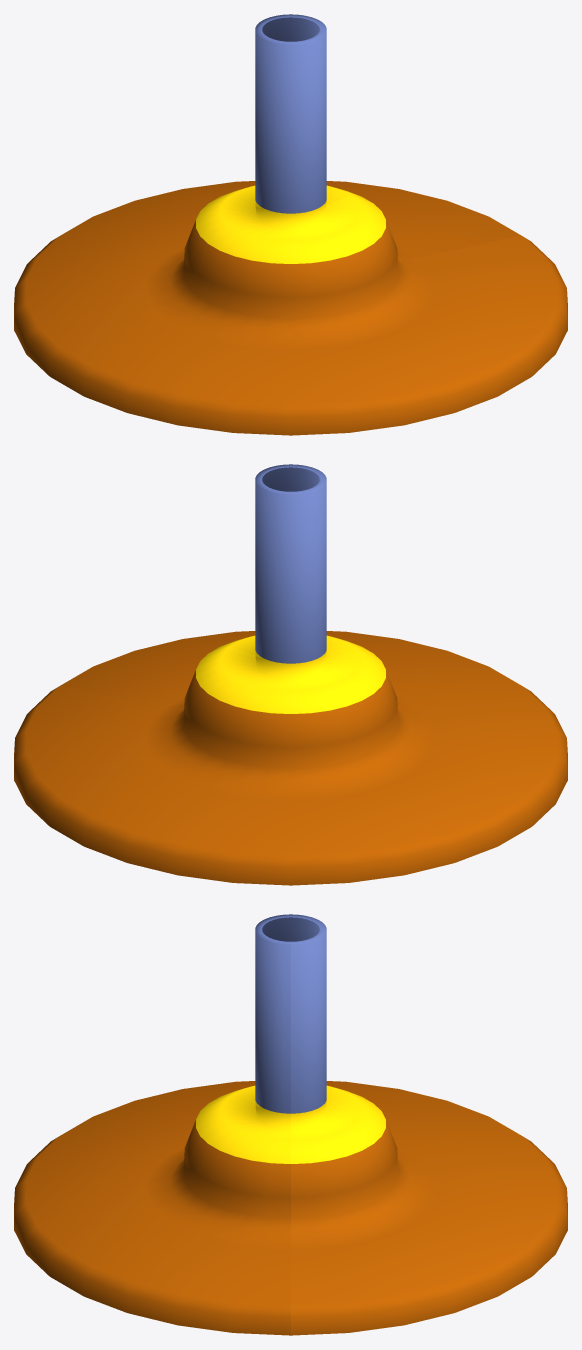
Rendered from OilLamp.fbx.
3 views of the same model, one above another, from view 1: azimuth 30°, elevation 25°; view 2: azimuth 150°, elevation 25°; view 3: azimuth 270°, elevation 25° (orthographic).
Parts seen in each view (by area): view 1: Plane; view 2: Plane; view 3: Plane.
Boxes of the visible parts, box(x1,y1,x2,y2) form: Plane: box(14, 14, 567, 435); Plane: box(14, 464, 567, 885); Plane: box(14, 914, 567, 1335).
Bounding box in the file's own units: 4.02 × 2.3 × 4.
